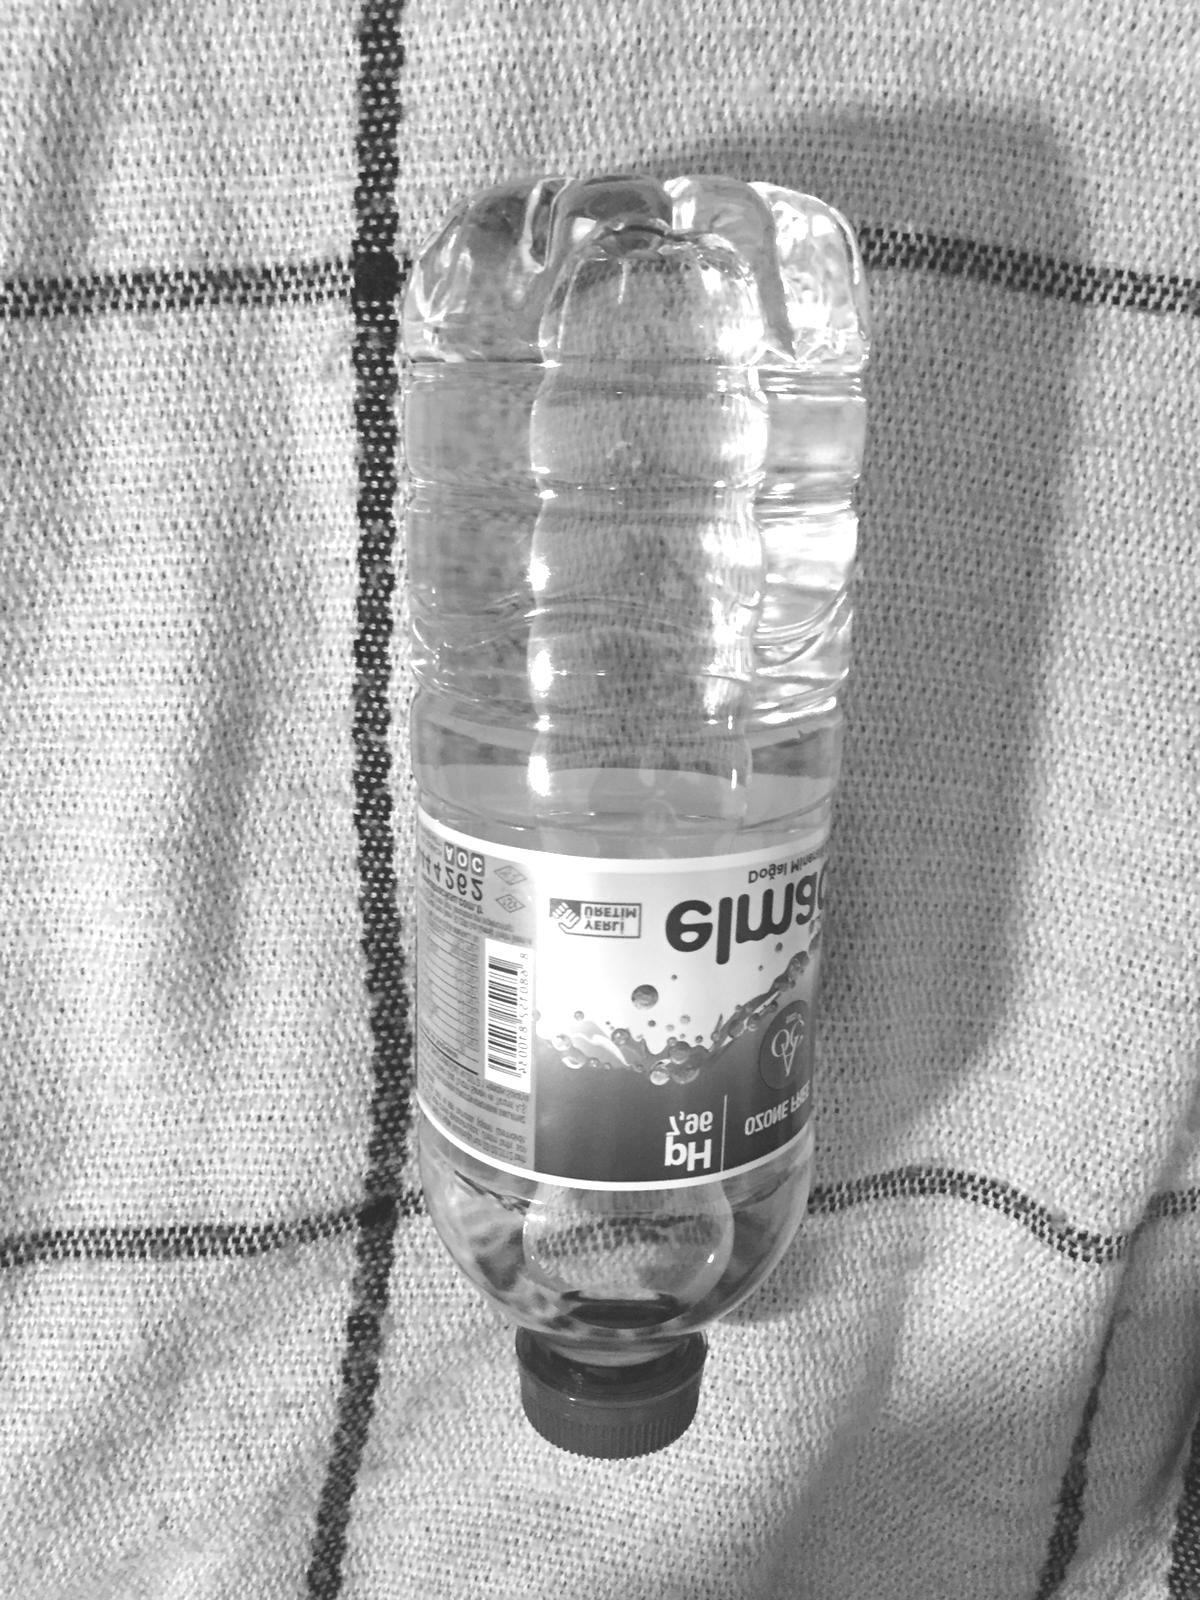bottle: (408, 155, 850, 1450)
